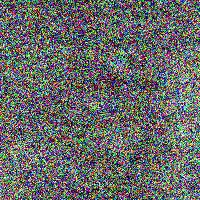rolled-in_scale: (106, 40, 177, 125), (73, 143, 144, 200)
